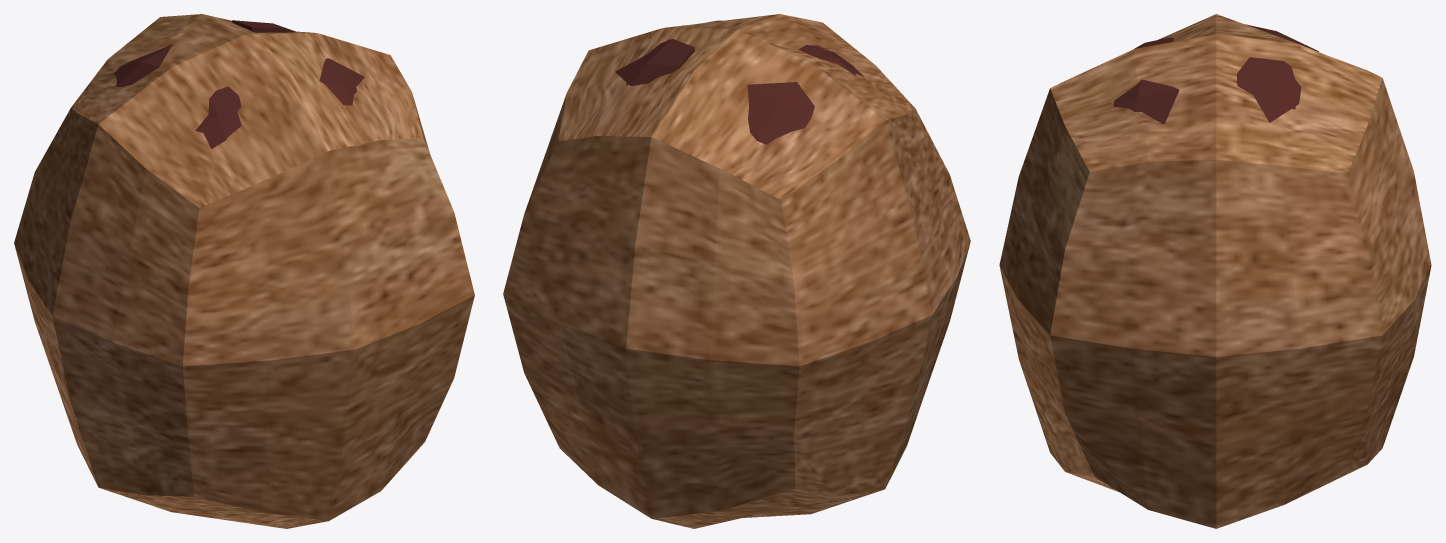
The model's file is coconut.fbx.
The picture shows the model from 3 angles, left to right: view 1: azimuth 30°, elevation 25°; view 2: azimuth 150°, elevation 25°; view 3: azimuth 270°, elevation 25°; orthographic projection. The views are drawn at different scales.
Parts seen in each view (by area): view 1: Cube, Cube.004, Cube.003, Cube.001; view 2: Cube, Cube.001, Cube.002, Cube.004; view 3: Cube, Cube.002, Cube.003.
Boxes of the visible parts, <box> form: Cube: <box>14,14,474,528</box>; Cube.004: <box>195,86,241,148</box>; Cube.003: <box>319,58,364,105</box>; Cube.001: <box>113,44,172,86</box>; Cube: <box>503,14,970,528</box>; Cube.001: <box>747,82,814,144</box>; Cube.002: <box>615,39,694,85</box>; Cube.004: <box>798,45,863,76</box>; Cube: <box>999,14,1431,528</box>; Cube.002: <box>1237,57,1301,122</box>; Cube.003: <box>1113,79,1178,124</box>.
Bounding box in the file's own units: 126 × 151 × 125.
